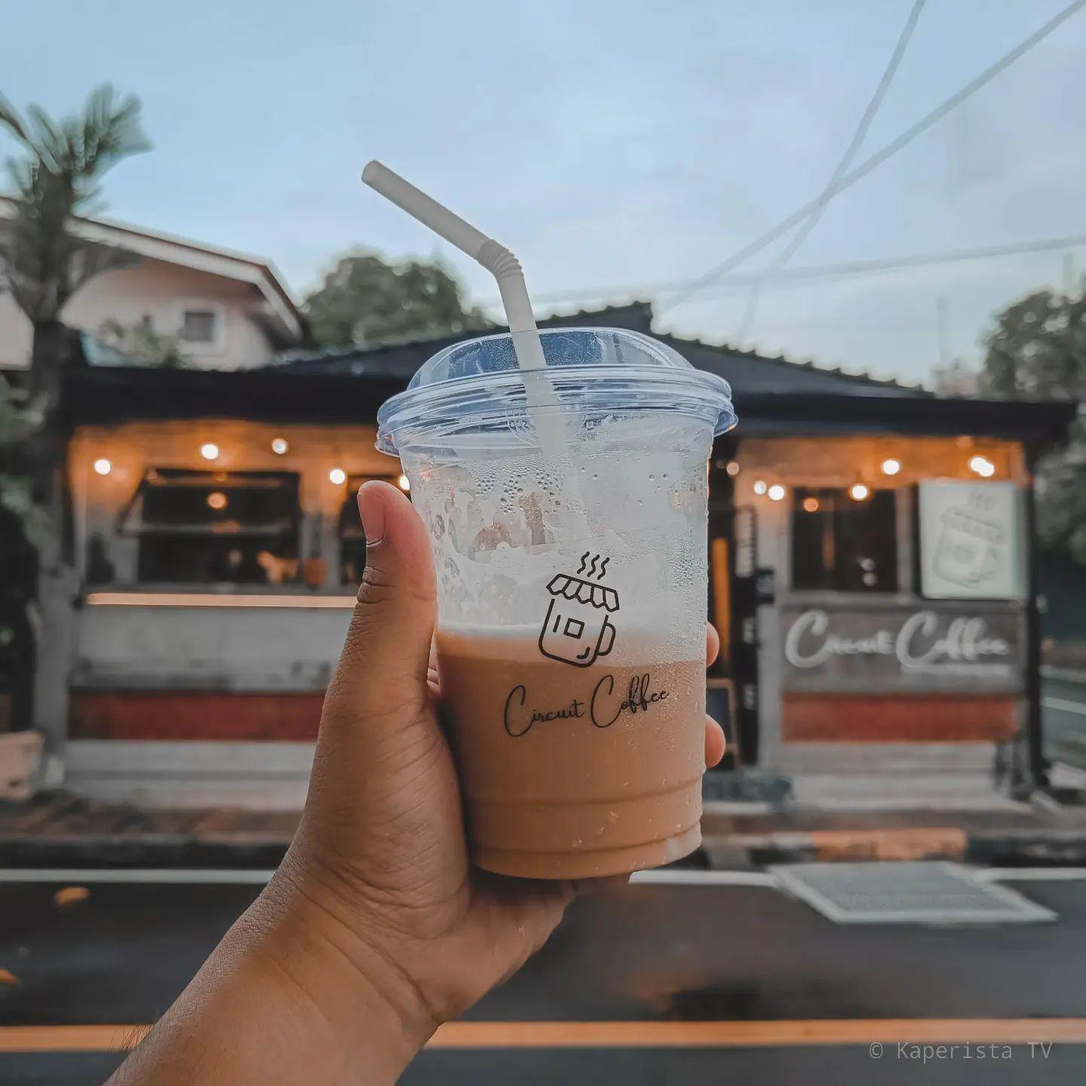cup-disposable: (370, 315, 735, 892)
